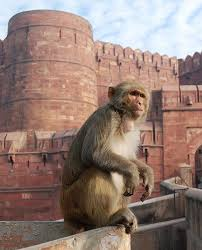monkey: (42, 43, 178, 246)
